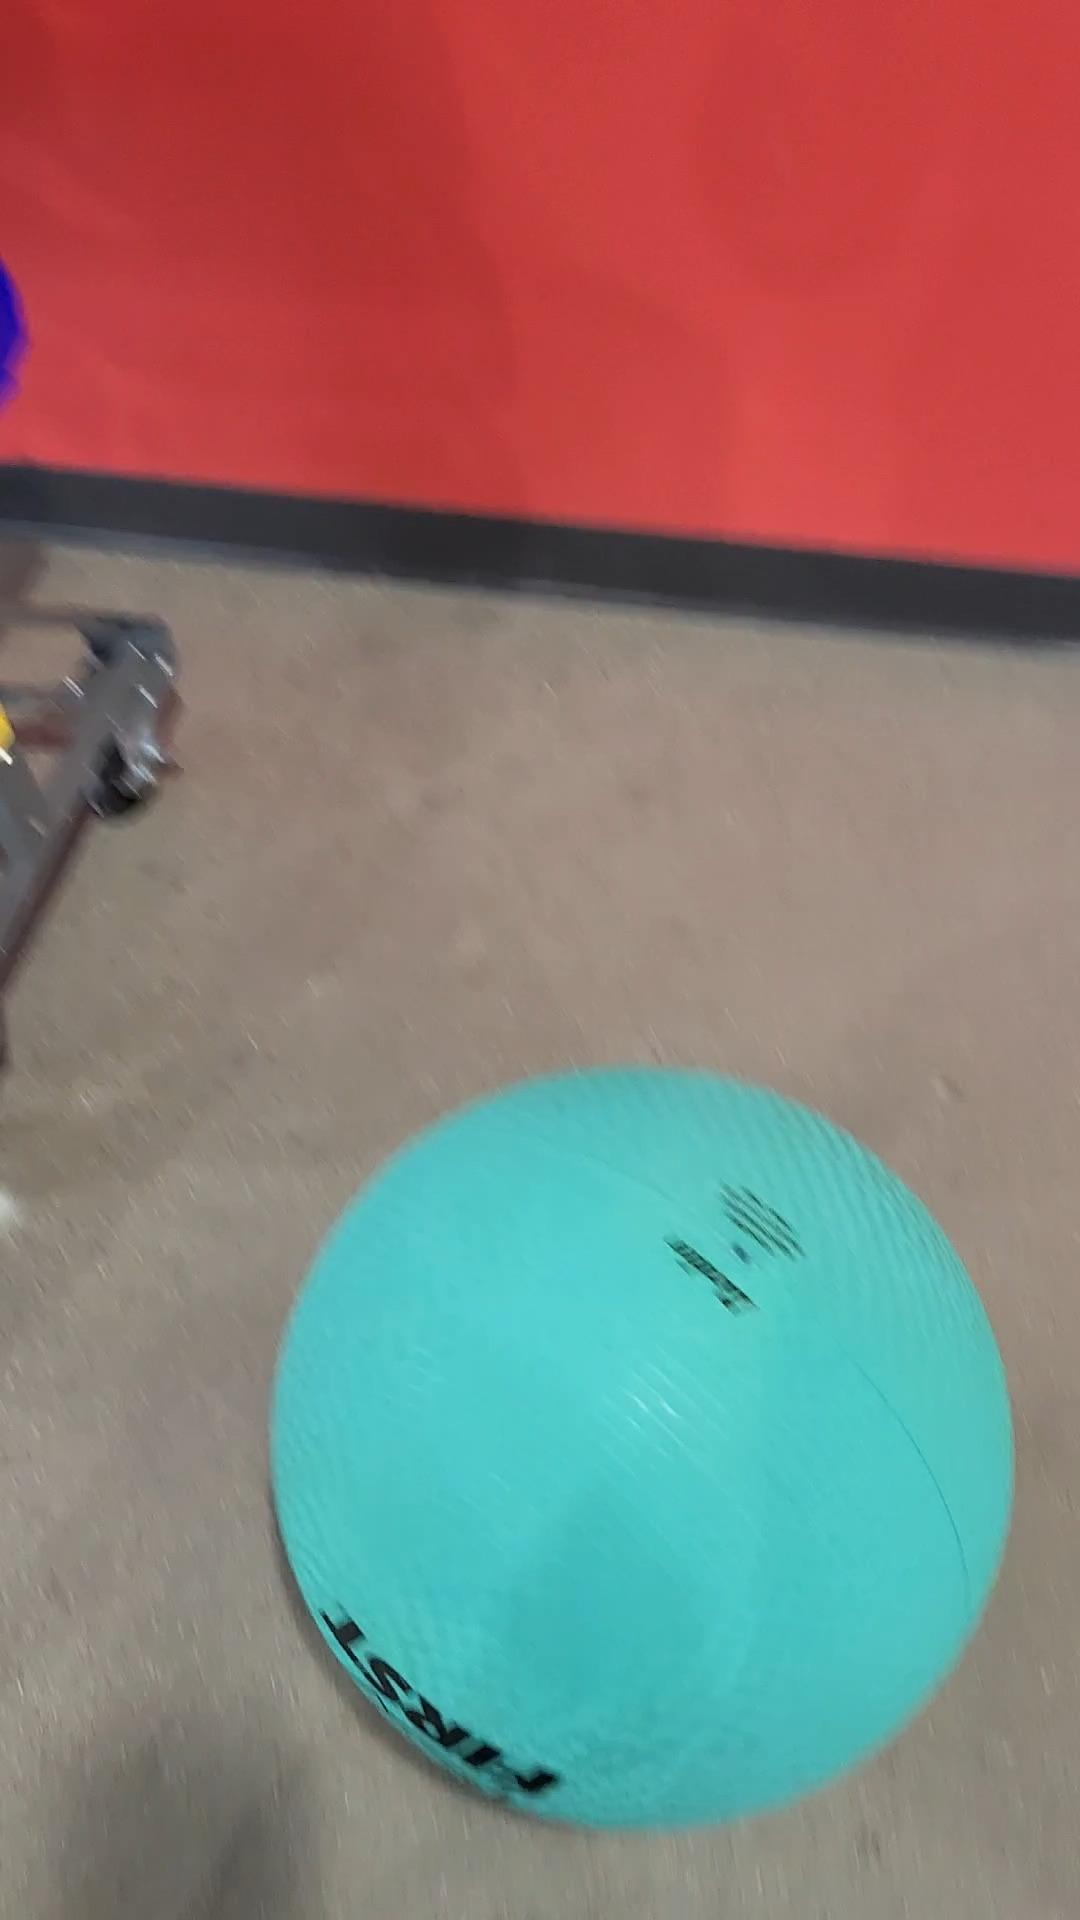algae: (281, 1065, 1006, 1829)
